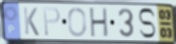3: (117, 8, 135, 40)
H: (89, 7, 110, 39)
K: (22, 6, 40, 38)
O: (67, 7, 89, 39)
P: (42, 7, 62, 38)
S: (137, 7, 157, 40)
